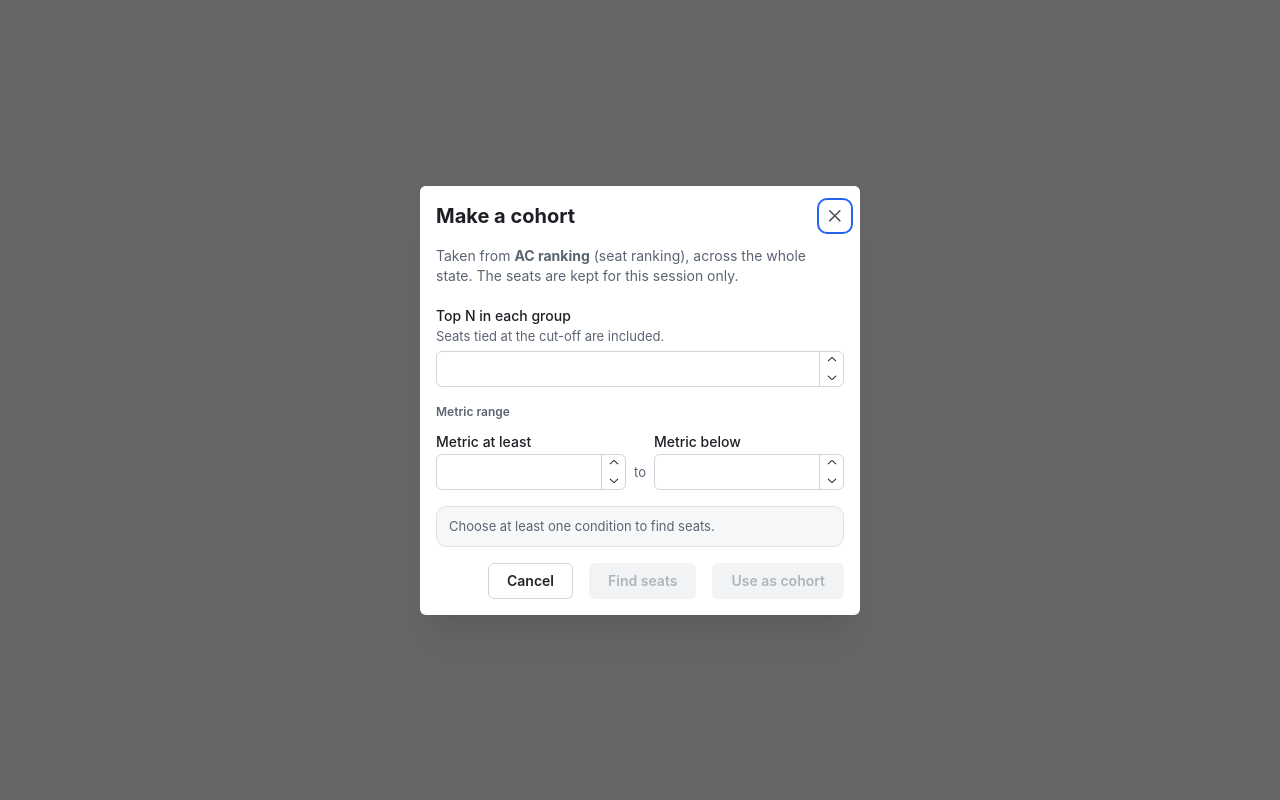
Scenario: CohortDialog › an empty selection cannot be used
The image size is (1280, 800).
In the field labelled "Top N in each group": coordinates (640, 368) top-left (436, 350), bottom-right (844, 386), type "5"
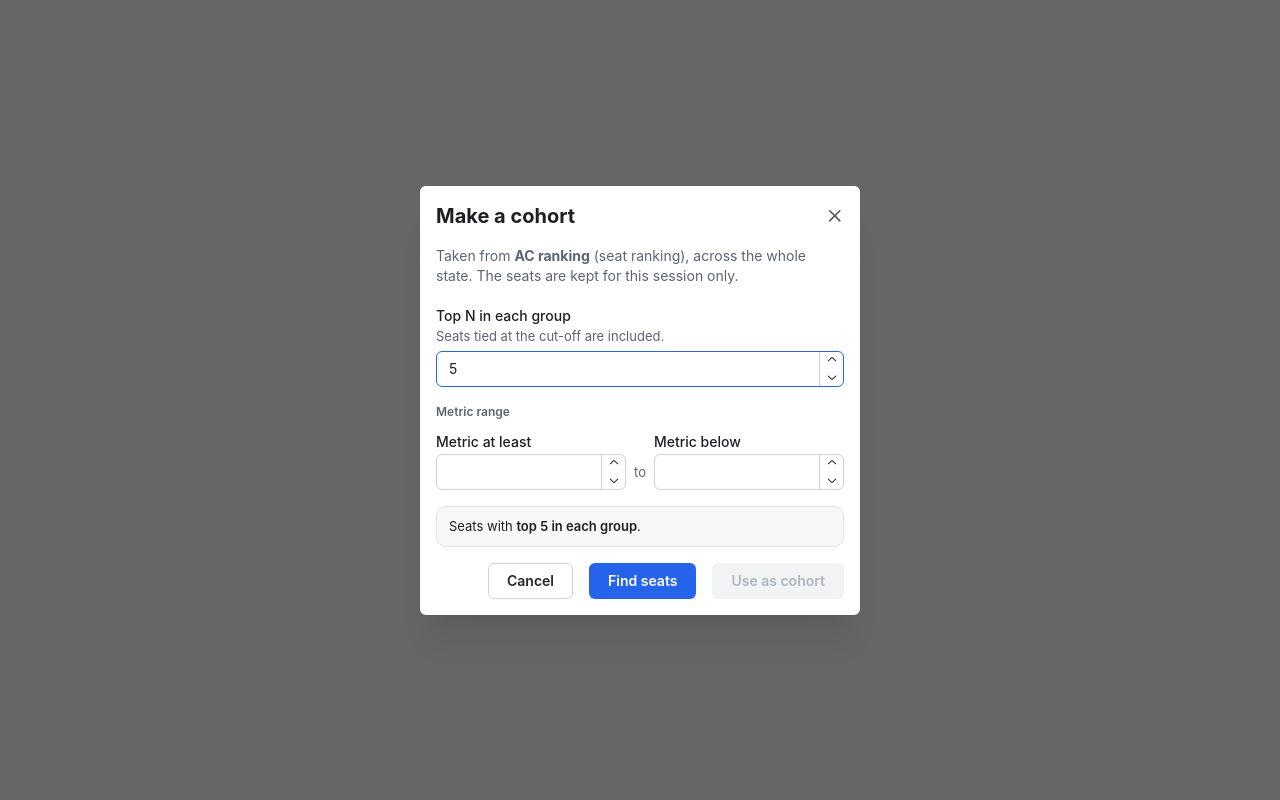
Click the button "Find seats": coordinates (643, 580) top-left (589, 562), bottom-right (696, 598)
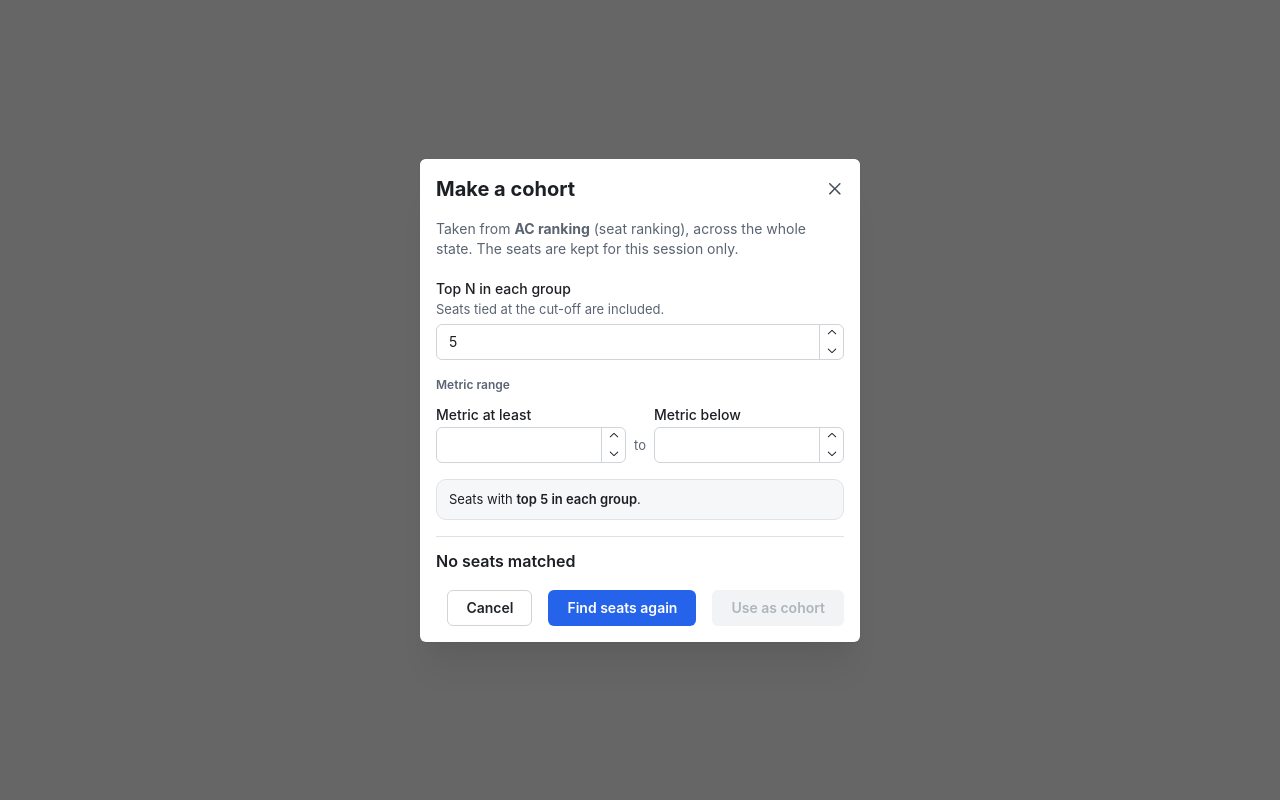
Expected: the button "Use as cohort" is disabled, top-left (712, 589), bottom-right (844, 625)
Now the text "No seats matched" is shown, box top-left (436, 550), bottom-right (576, 570)
